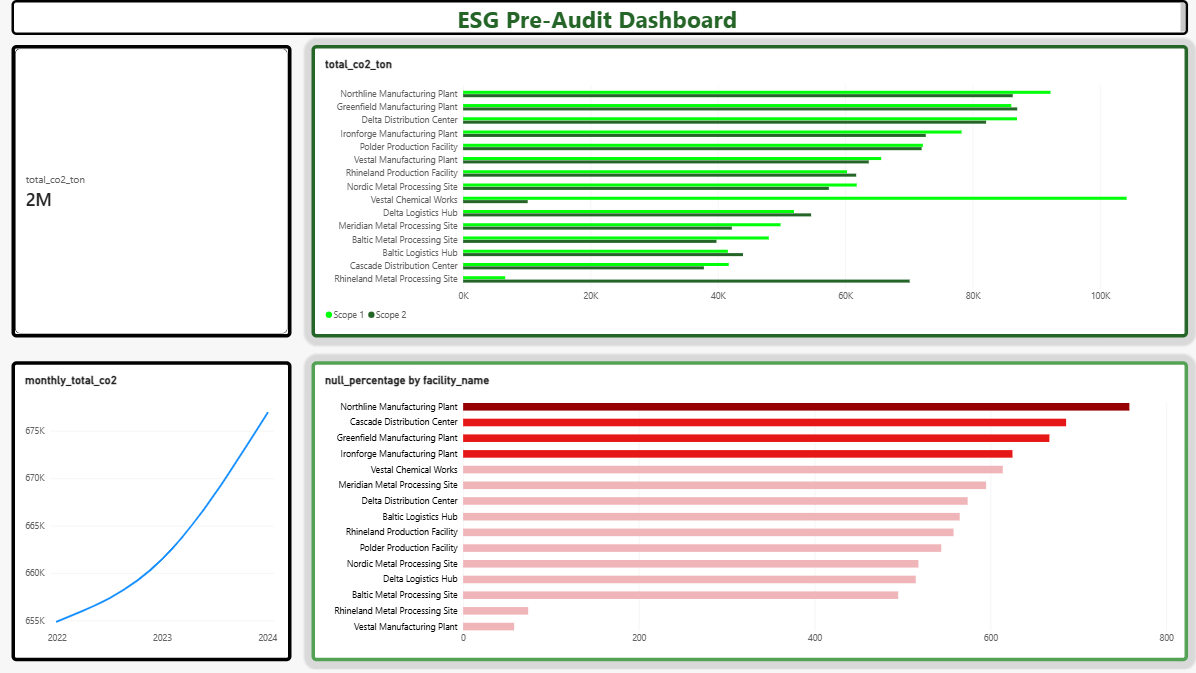

The page's visual inventory and layout, read from the dashboard file:
{"tool":"powerbi","page":{"name":"1. sayfa","canvas":[1920,1080],"ordinal":0},"visuals":[{"type":"cardVisual","fields":{"Data":["Sum(kpi_emission_by_scope.total_co2_ton)"]},"box":[20,72,448,468],"z":0},{"type":"clusteredBarChart","title":"total_co2_ton","fields":{"Category":["kpi_emission_by_scope.facility_name"],"Series":["kpi_emission_by_scope.scope"],"Y":["Sum(kpi_emission_by_scope.total_co2_ton)"]},"box":[500,72,1402,468],"z":1000},{"type":"lineChart","title":"monthly_total_co2","fields":{"Category":["kpi_monthly_trend.month.Varyasyon.Tarih Hiyerarşisi.Yıl","kpi_monthly_trend.month.Varyasyon.Tarih Hiyerarşisi.Çeyrek","kpi_monthly_trend.month.Varyasyon.Tarih Hiyerarşisi.Ay","kpi_monthly_trend.month.Varyasyon.Tarih Hiyerarşisi.Gün"],"Y":["Sum(kpi_monthly_trend.monthly_total_co2)"]},"box":[20,578,448,480],"z":2000},{"type":"clusteredBarChart","title":"null_percentage by facility_name","fields":{"Category":["kpi_data_quality.facility_name"],"Y":["Sum(kpi_data_quality.null_percentage)"]},"box":[500,578,1402,480],"z":3000},{"type":"textbox","box":[20,0,1882,56],"z":4000}]}

Visuals, with their boxes in screenshot pixels (x1, y1, x2, y2), scaled from the page's 1920x1080 canvas onto the 1196x673 screenshot:
cardVisual - Sum(kpi_emission_by_scope.total_co2_ton): crop(12, 45, 292, 336)
"total_co2_ton" clusteredBarChart: crop(311, 45, 1185, 336)
"monthly_total_co2" lineChart: crop(12, 360, 292, 659)
"null_percentage by facility_name" clusteredBarChart: crop(311, 360, 1185, 659)
textbox: crop(12, 0, 1185, 35)
